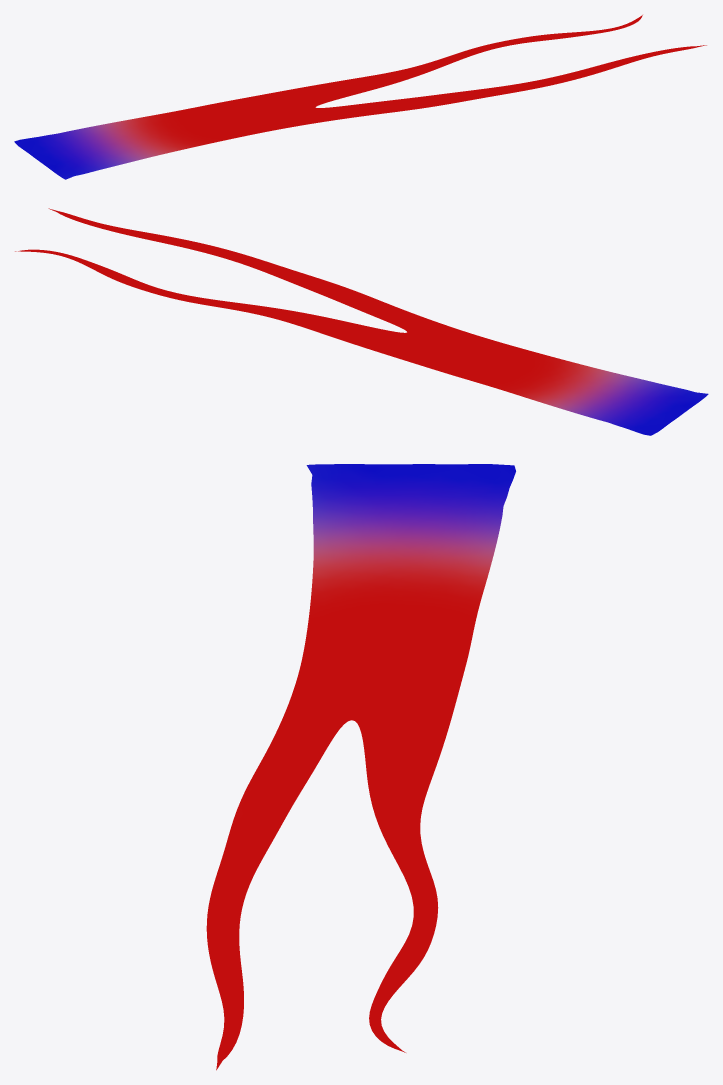
The model's file is SM_Prop_Flag_Horizontal_05_Opti_Mesh_N.fbx.
3 views of the same model, one above another, from view 1: azimuth 30°, elevation 25°; view 2: azimuth 150°, elevation 25°; view 3: azimuth 270°, elevation 25° (orthographic). The views are drawn at different scales.
Visible parts, largest first — view 1: Flag_Source; view 2: Flag_Source; view 3: Flag_Source.
Part boxes in pixels (left/top/right/bottom): Flag_Source: left=14, top=15, right=706, bottom=179; Flag_Source: left=15, top=208, right=708, bottom=435; Flag_Source: left=206, top=464, right=515, bottom=1070.
Bounding box in the file's own units: 1340 × 0.000196 × 289.
